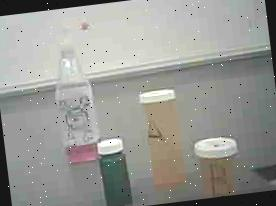Bottle A: (136, 86, 190, 192)
Bottle B: (191, 134, 244, 200)
Bottle C: (94, 136, 138, 206)
hazard: (42, 15, 105, 165)
